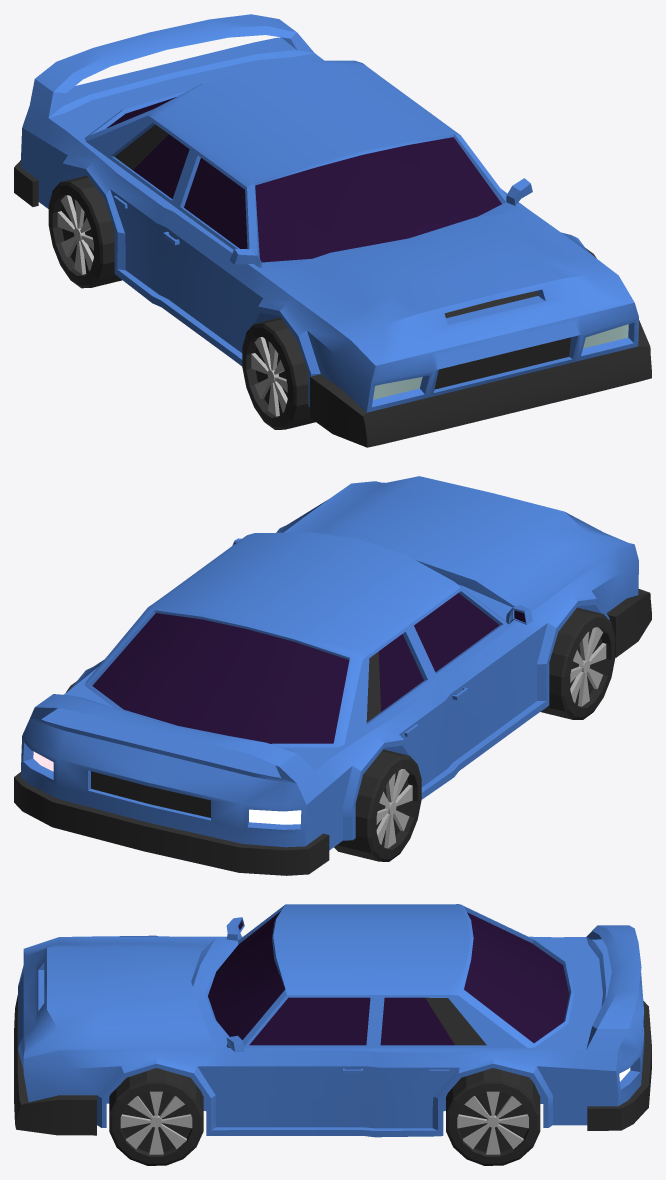
Rendered from charger.fbx.
3 views of the same model, one above another, from view 1: azimuth 30°, elevation 25°; view 2: azimuth 150°, elevation 25°; view 3: azimuth 270°, elevation 25° (orthographic). The views are drawn at different scales.
Parts seen in each view (by area): view 1: body, wheel.backRight|wheel|Dupli|, wheel.frontRight|wheel|Dupli|; view 2: body, wheel.backRight|wheel|Dupli|, wheel.frontRight|wheel|Dupli|; view 3: body, wheel.backLeft|wheel|Dupli|, wheel.frontLeft|wheel|Dupli|.
Boxes of the visible parts, box(x1,y1,x2,y2) form: body: box(14, 14, 651, 447); wheel.backRight|wheel|Dupli|: box(48, 175, 121, 288); wheel.frontRight|wheel|Dupli|: box(242, 317, 315, 429); body: box(14, 476, 651, 875); wheel.backRight|wheel|Dupli|: box(334, 749, 421, 861); wheel.frontRight|wheel|Dupli|: box(540, 607, 615, 719); body: box(14, 904, 651, 1137); wheel.backLeft|wheel|Dupli|: box(446, 1068, 540, 1165); wheel.frontLeft|wheel|Dupli|: box(109, 1068, 203, 1165).
Size of the model in its own units: 578 by 318 by 1135.
